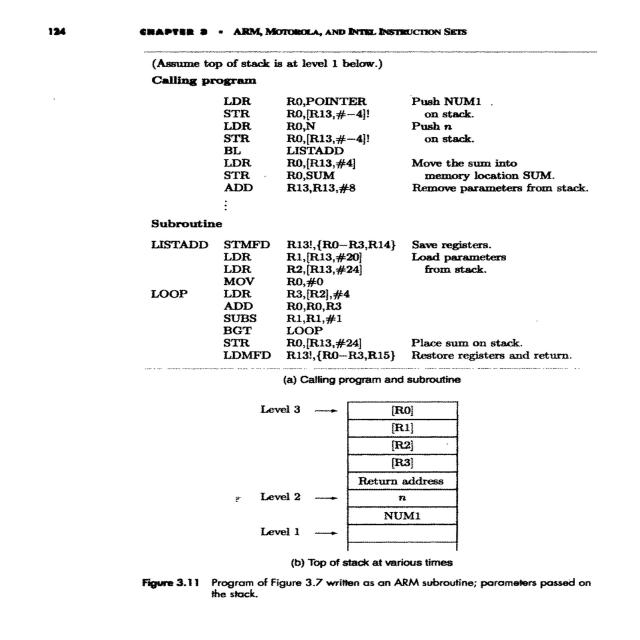diagram: (122, 52, 617, 611), (639, 171, 640, 220), (639, 378, 640, 383)
